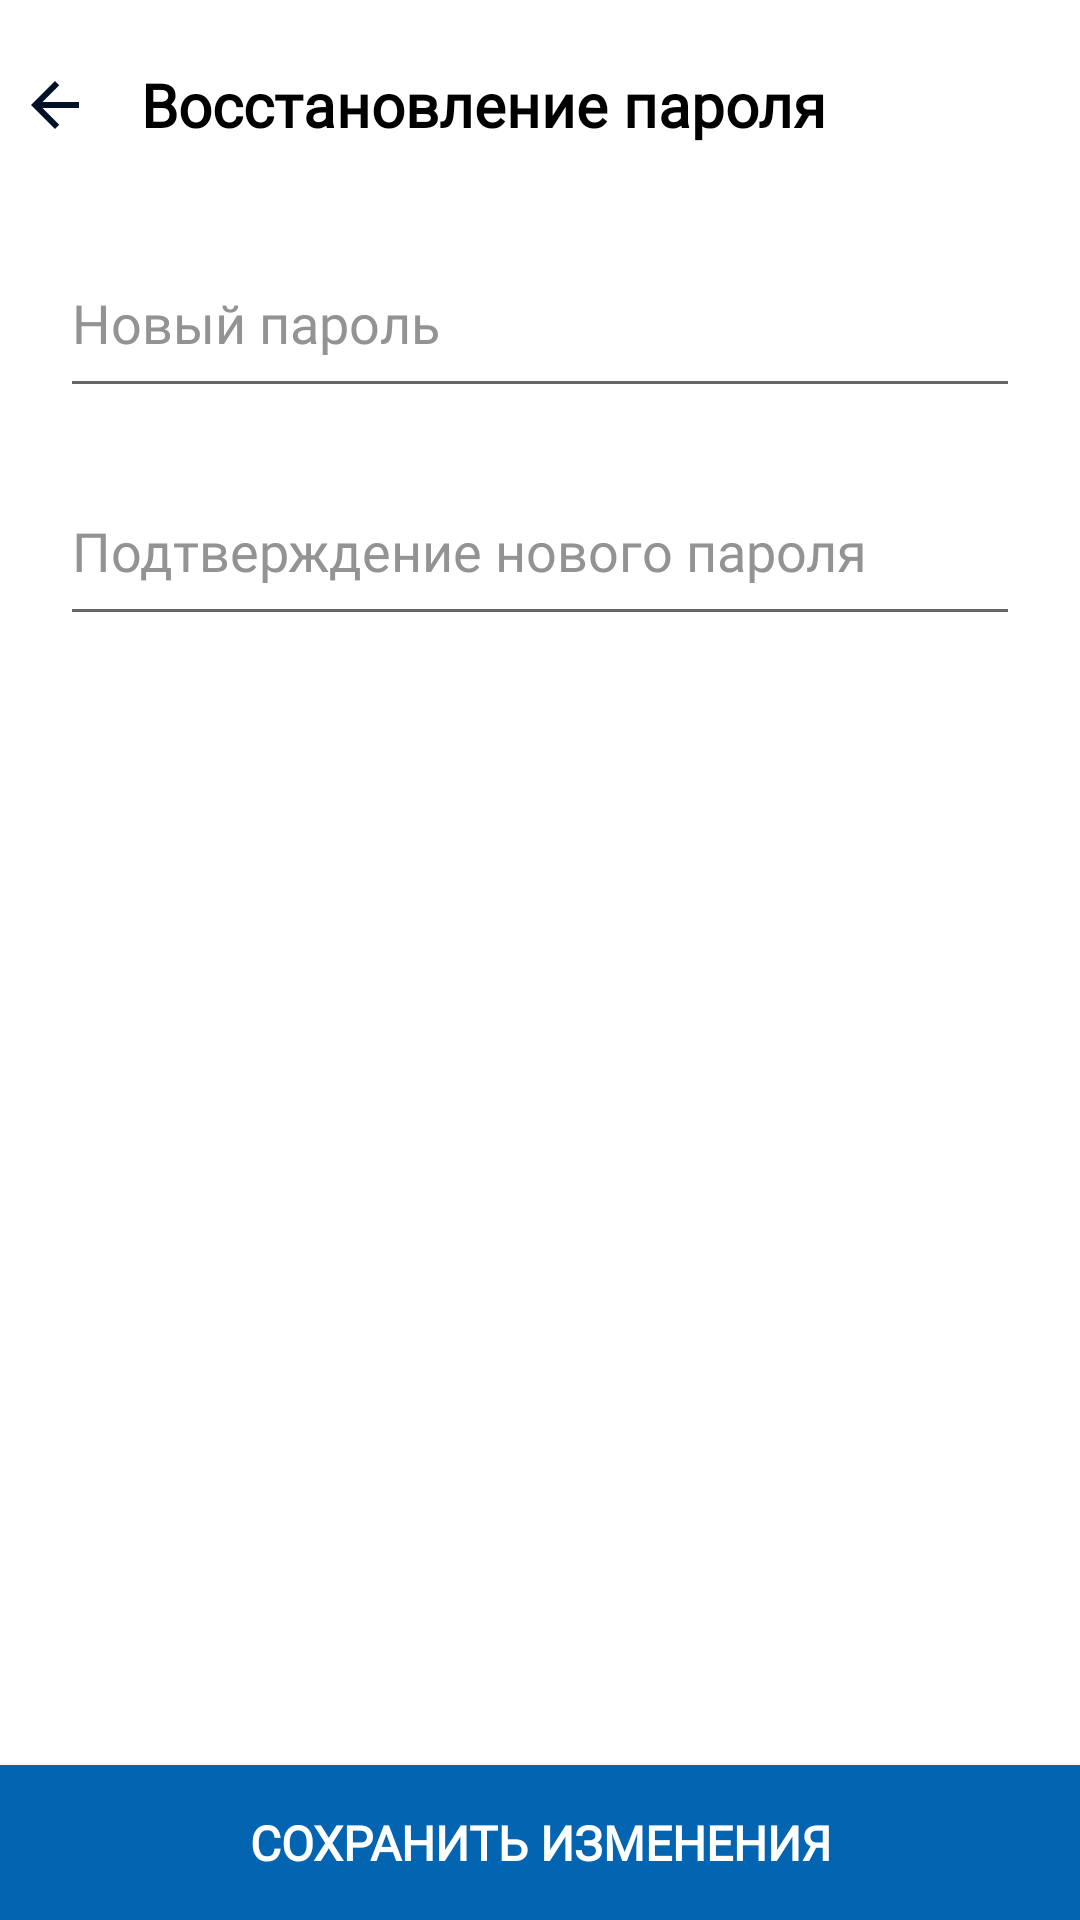

Named icons in this screenshot (1080 x 1920) and their bounding boxes, BBox(x1, y1, x2, y2):
arrow back: BBox(31, 81, 79, 129)
